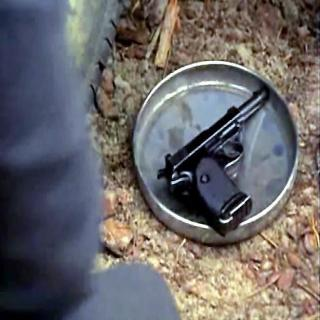gun: (156, 76, 286, 237)
